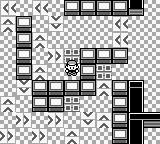main: (64, 60, 79, 75)
no-caminable: (32, 48, 128, 111), (65, 0, 128, 15), (17, 16, 32, 79), (113, 80, 128, 143), (129, 113, 159, 128), (129, 80, 143, 112), (129, 120, 143, 143), (128, 0, 144, 15)
salto: (1, 16, 16, 32), (17, 80, 32, 95), (97, 113, 112, 128), (96, 81, 111, 96), (1, 97, 15, 112), (1, 1, 16, 15), (32, 129, 47, 143), (32, 66, 47, 80), (114, 17, 128, 32), (34, 1, 50, 14), (16, 113, 30, 127), (48, 49, 62, 63), (114, 33, 128, 47), (82, 112, 95, 127), (50, 16, 63, 31), (1, 129, 14, 143), (66, 129, 79, 143), (48, 114, 62, 127)
